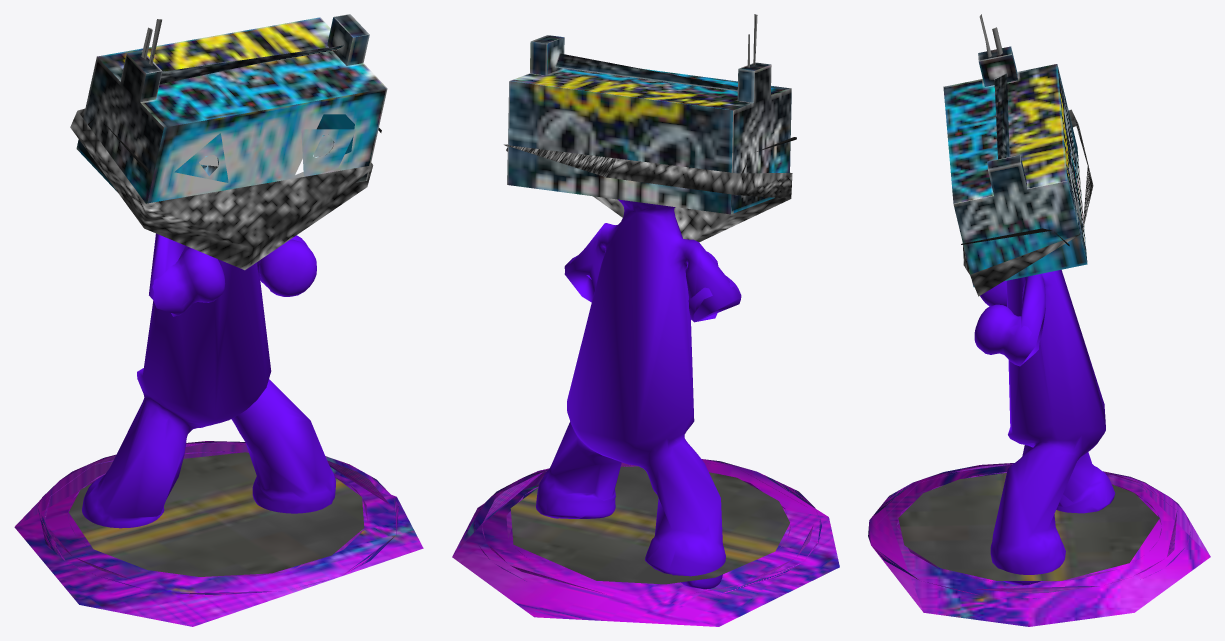
The model's file is out_bOOBOXBODY_Mat_1_Mat_1.baked.001_LOD1_108_LOD.glb.
3 renders of one model, left to right at view 1: azimuth 30°, elevation 25°; view 2: azimuth 150°, elevation 25°; view 3: azimuth 270°, elevation 25°, orthographic. The views are drawn at different scales.
Parts seen in each view (by area): view 1: bOOBOXBODY_Mat_1_Mat_1.baked.001_LOD1; view 2: bOOBOXBODY_Mat_1_Mat_1.baked.001_LOD1; view 3: bOOBOXBODY_Mat_1_Mat_1.baked.001_LOD1.
Part boxes in pixels (x1,y1,x2,y2): bOOBOXBODY_Mat_1_Mat_1.baked.001_LOD1: [14, 14, 423, 626]; bOOBOXBODY_Mat_1_Mat_1.baked.001_LOD1: [452, 14, 839, 626]; bOOBOXBODY_Mat_1_Mat_1.baked.001_LOD1: [868, 14, 1210, 626].
Bounding box in the file's own units: 1.41 × 2.18 × 1.36.
Materials: 7 (4 with a texture image).
